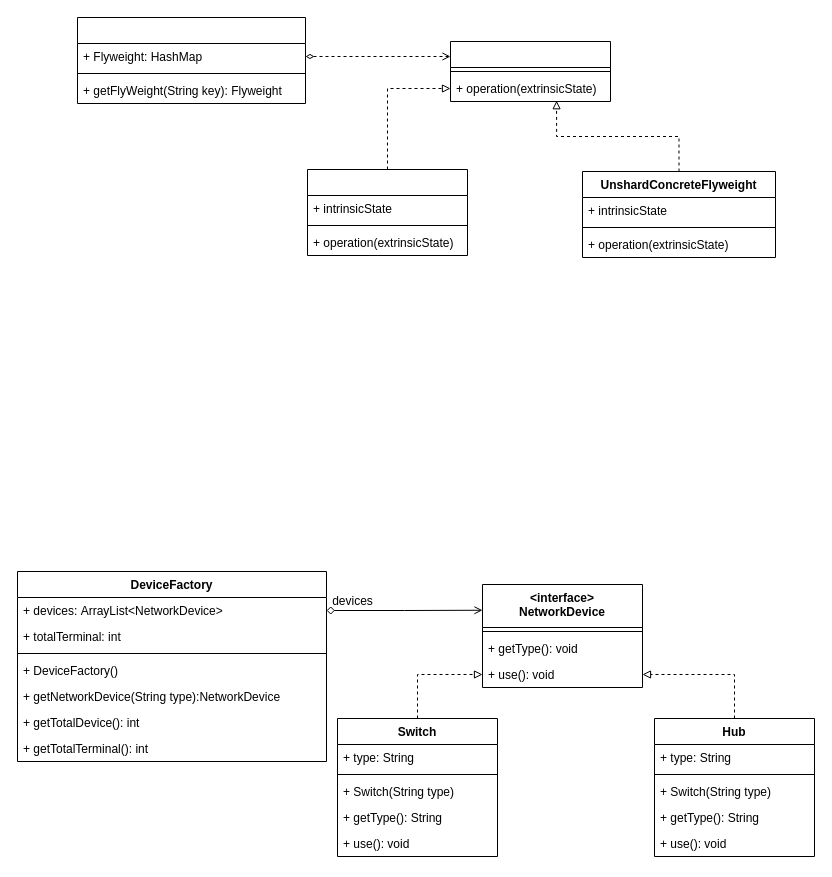
Image size: 832x877. Some labels were removed from this diagram. Each missing label, with the box of its shape:
ConcreteFlyweight: (306, 168, 468, 256)
Flyweight: (450, 40, 610, 102)
FlyweightFactory: (76, 16, 306, 104)
